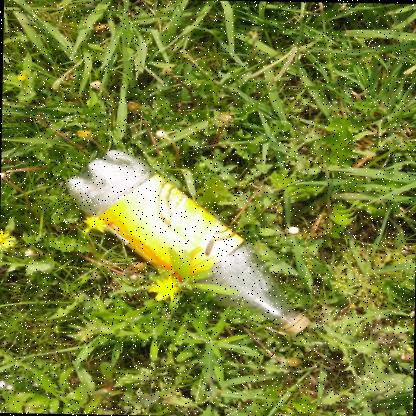Clear plastic bottle: (65, 149, 310, 334)
Plastic bottle cap: (283, 315, 310, 334)
